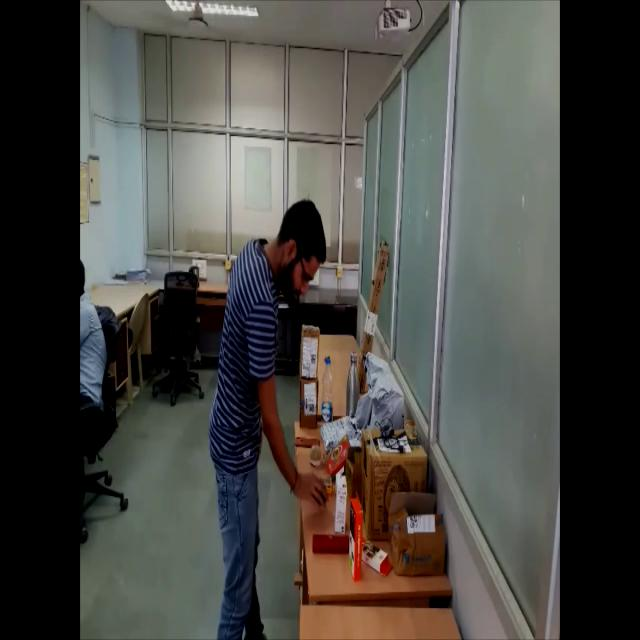normal: (208, 194, 330, 639)
